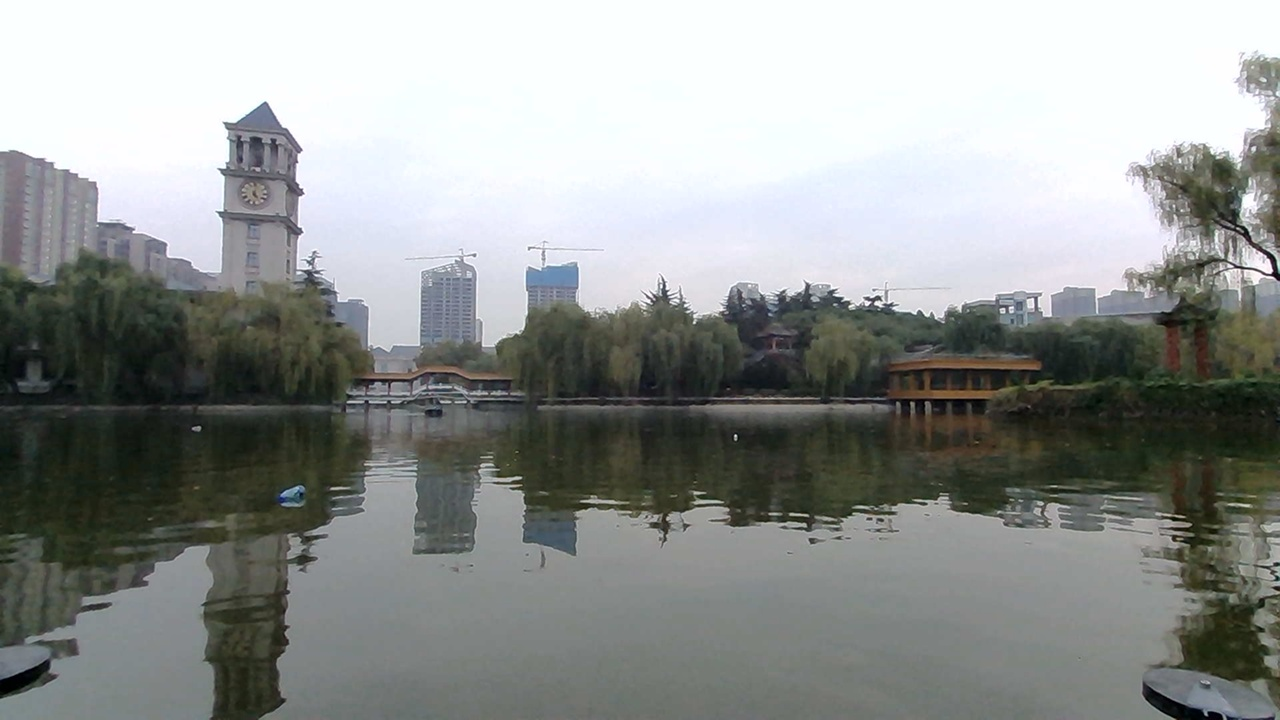bottle: (731, 424, 769, 449), (273, 484, 312, 508), (177, 413, 216, 436)
